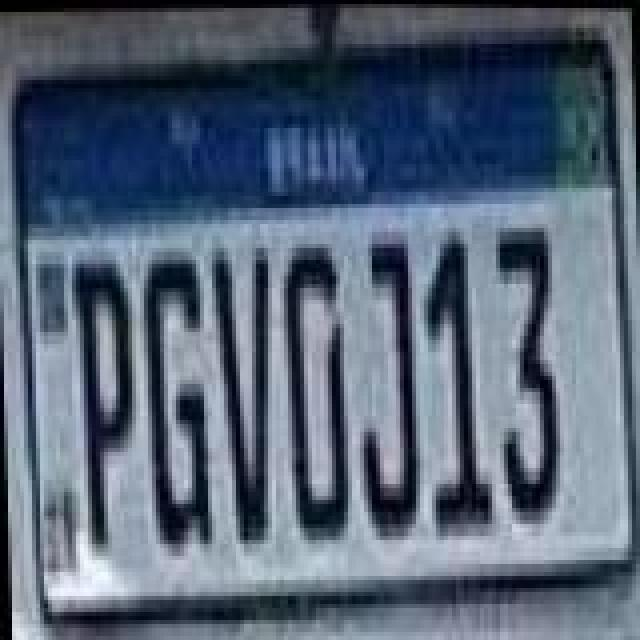1: (420, 232, 496, 532)
3: (490, 220, 562, 528)
D: (276, 232, 352, 544)
G: (138, 252, 210, 548)
J: (352, 234, 420, 530)
P: (66, 254, 138, 550)
V: (208, 234, 276, 542)
